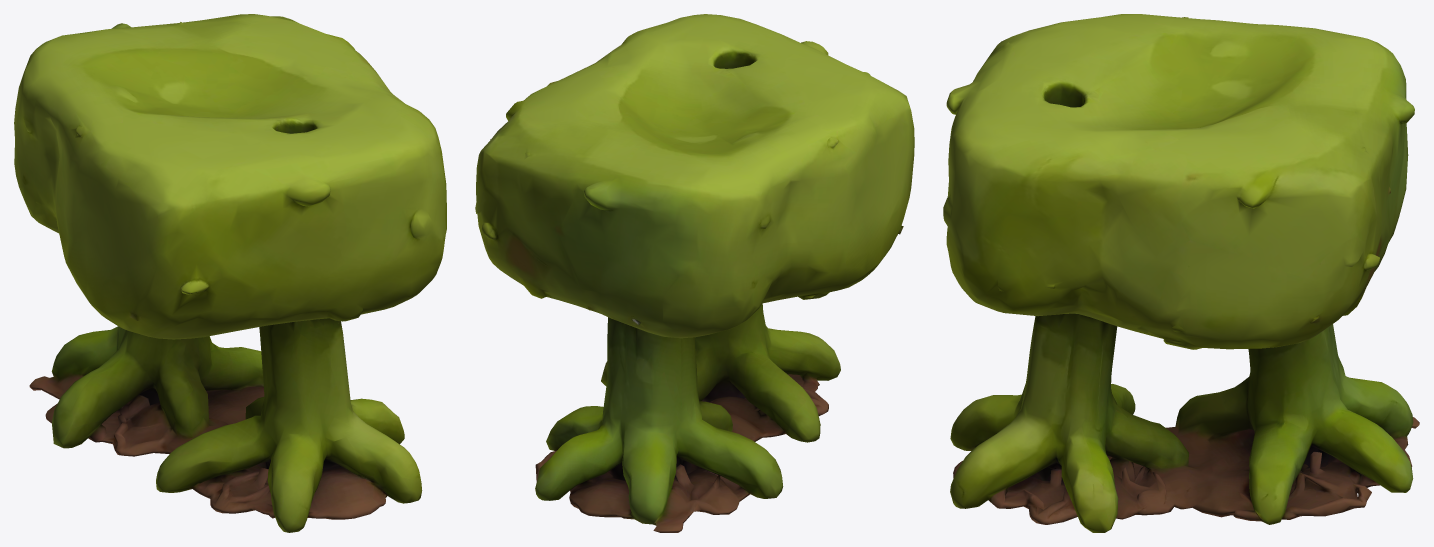
The model's file is legs.glb.
3 renders of one model, left to right at view 1: azimuth 30°, elevation 25°; view 2: azimuth 150°, elevation 25°; view 3: azimuth 270°, elevation 25°, orthographic. The views are drawn at different scales.
Visible parts, largest first — view 1: tripo_node_beefcaa1-c065-4a7a-b8d3-a9250fcf6dca; view 2: tripo_node_beefcaa1-c065-4a7a-b8d3-a9250fcf6dca; view 3: tripo_node_beefcaa1-c065-4a7a-b8d3-a9250fcf6dca.
Part boxes in pixels (bbox=[...]): tripo_node_beefcaa1-c065-4a7a-b8d3-a9250fcf6dca: bbox=[14, 14, 446, 532]; tripo_node_beefcaa1-c065-4a7a-b8d3-a9250fcf6dca: bbox=[475, 14, 914, 532]; tripo_node_beefcaa1-c065-4a7a-b8d3-a9250fcf6dca: bbox=[943, 14, 1419, 532].
Bounding box in the file's own units: 0.8332 × 0.9023 × 1.
1 material, 1 textured.
